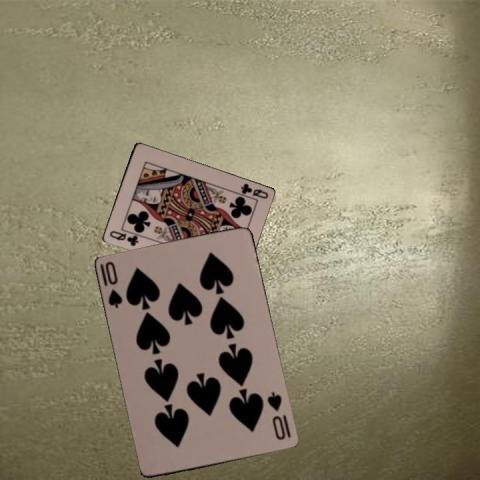10s: (97, 259, 125, 310), (264, 390, 287, 442)
Qc: (237, 180, 270, 200), (107, 228, 139, 247)
